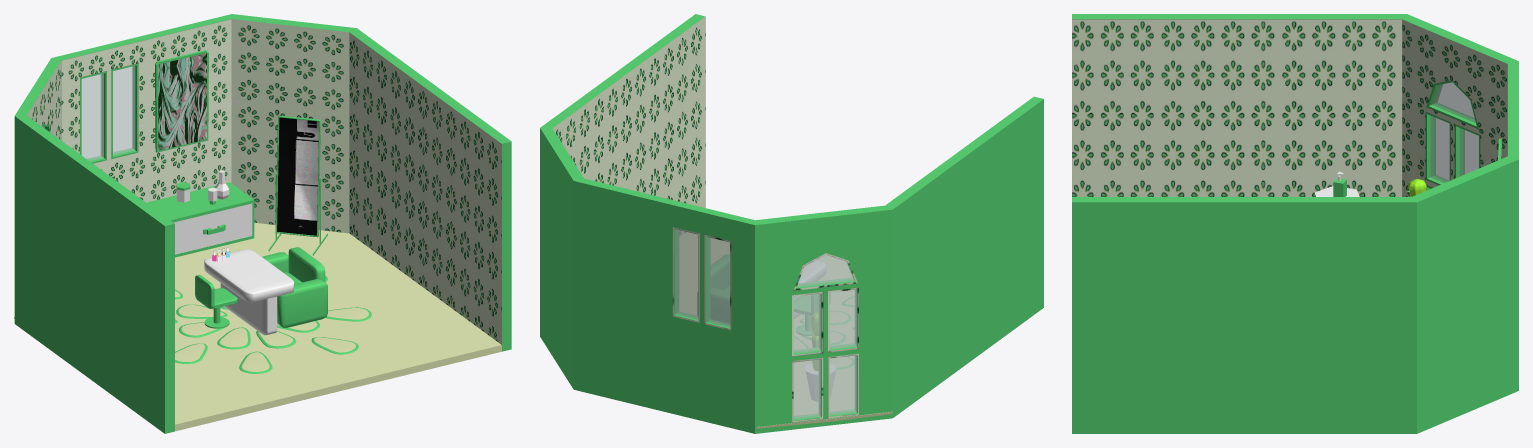
The model's file is YEŞİL-ODA.obj.
3 views of the same model, side by side, from view 1: azimuth 30°, elevation 25°; view 2: azimuth 150°, elevation 25°; view 3: azimuth 270°, elevation 25° (orthographic). The views are drawn at different scales.
Visible parts, largest first — view 1: Cube.141_w_zümrüğt, Cube.141_m_yeşil, Cube.145_zemin_yeşil, Box009.013_wall_pembe, Cube_m_white, Plane.015_tablo_yeşil, Cube.140_m_cam, Cube.139_m_yeşil, Circle.039_zemin_yeşil, cabinet.015_m_beyaz, cabinet.015_m_yeşil, Circle.039_m_yeşil (+4 smaller); view 2: Cube.141_m_yeşil, Cube.141_w_zümrüğt, Cube.143_m_cam, Cube.145_zemin_yeşil, Cube.140_m_cam, Cube.139_m_yeşil, Circle_m_yeşil, Circle.039_zemin_yeşil, Cylinder.108_m_beyaz; view 3: Cube.141_m_yeşil, Cube.141_w_zümrüğt, Cube.143_m_cam.
Boxes of the visible parts, x1,y1,x2,y2 form: Cube.141_w_zümrüğt: (27, 19, 501, 344); Cube.141_m_yeşil: (14, 14, 511, 433); Cube.145_zemin_yeşil: (14, 222, 501, 431); Box009.013_wall_pembe: (277, 117, 319, 235); Cube_m_white: (204, 249, 293, 335); Plane.015_tablo_yeşil: (158, 53, 206, 150); Cube.140_m_cam: (81, 66, 135, 160); Cube.139_m_yeşil: (262, 247, 327, 327); Circle.039_zemin_yeşil: (175, 290, 368, 371); cabinet.015_m_beyaz: (174, 203, 252, 254); cabinet.015_m_yeşil: (146, 182, 254, 257); Circle.039_m_yeşil: (175, 276, 371, 373); Cube.141_m_yeşil: (540, 14, 1043, 433); Cube.141_w_zümrüğt: (552, 16, 858, 422); Cube.143_m_cam: (793, 255, 856, 419); Cube.145_zemin_yeşil: (679, 232, 892, 428); Cube.140_m_cam: (675, 229, 729, 327); Cube.139_m_yeşil: (697, 254, 729, 323); Circle_m_yeşil: (794, 293, 830, 335); Circle.039_zemin_yeşil: (794, 297, 854, 367); Cylinder.108_m_beyaz: (805, 363, 835, 401); Cube.141_m_yeşil: (1072, 14, 1518, 433); Cube.141_w_zümrüğt: (1072, 19, 1507, 196); Cube.143_m_cam: (1430, 82, 1478, 188).
Size of the model in its own units: 68.08 by 38.99 by 68.21.
